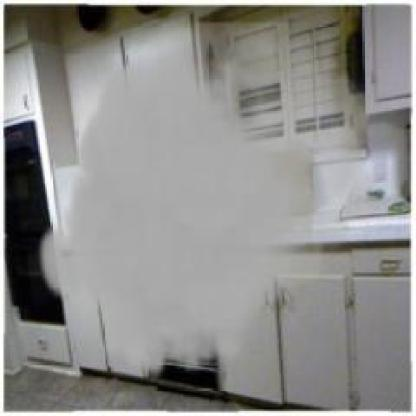Smoke: (35, 21, 391, 380)
